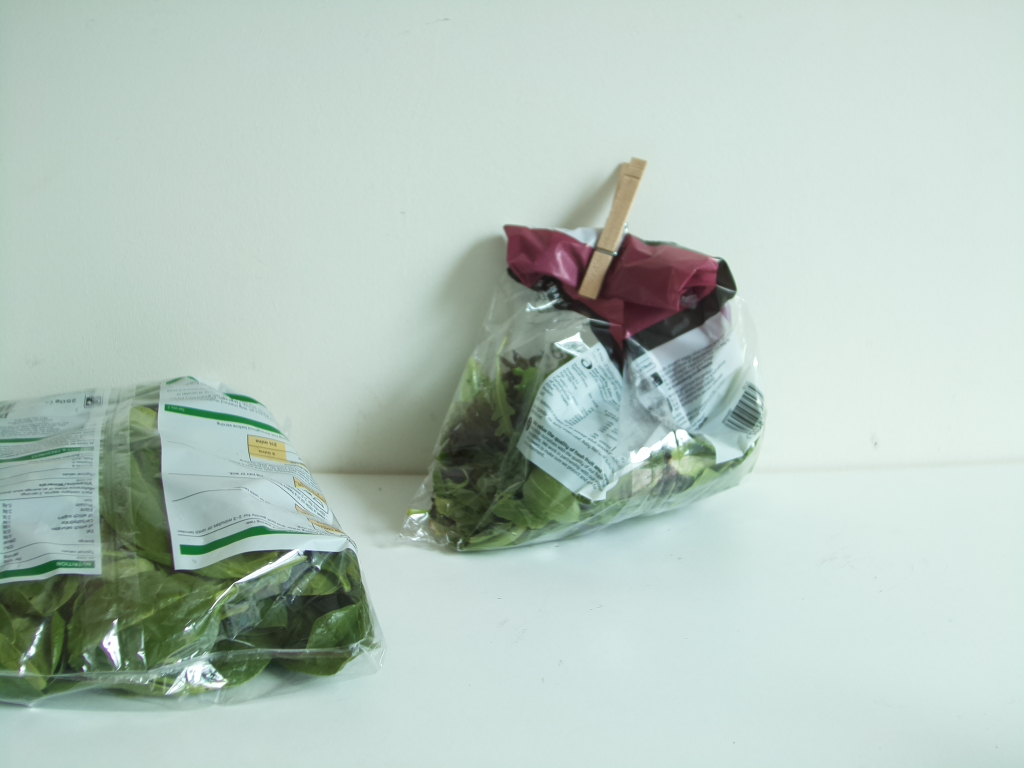salad: (1, 380, 382, 712), (412, 228, 773, 552)
